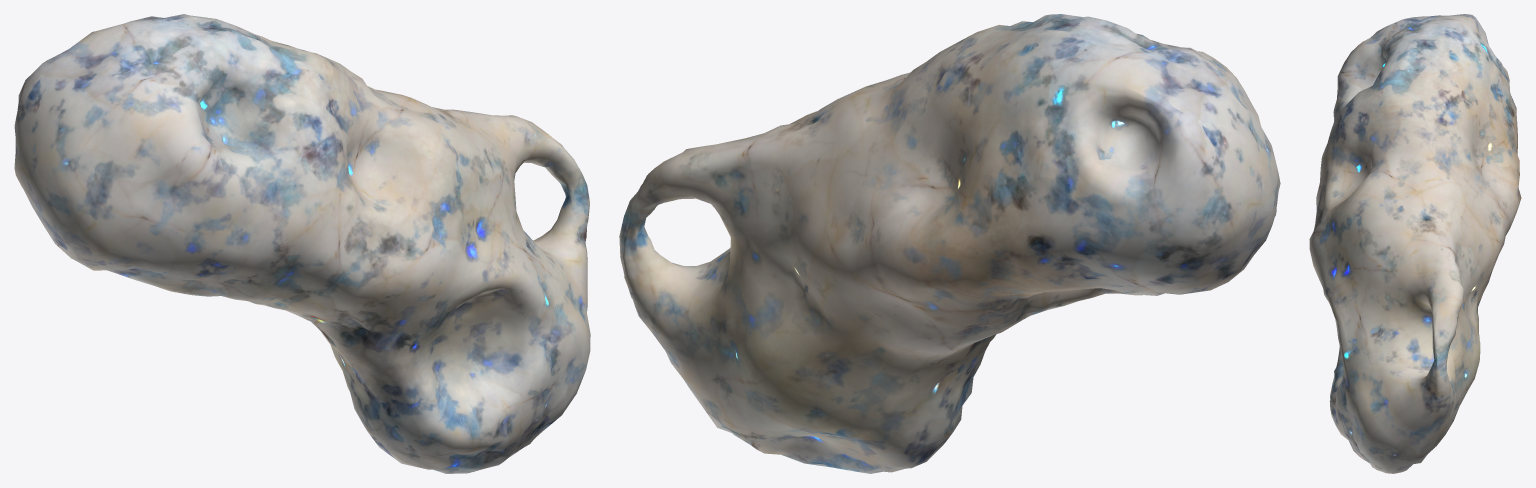
Rendered from asteroid_with_minerals.glb.
The picture shows the model from 3 angles, left to right: view 1: azimuth 30°, elevation 25°; view 2: azimuth 150°, elevation 25°; view 3: azimuth 270°, elevation 25°; orthographic projection. The views are drawn at different scales.
Parts seen in each view (by area): view 1: Object_2; view 2: Object_2; view 3: Object_2.
Boxes of the visible parts, box(x1,y1,x2,y2) form: Object_2: box(14, 14, 590, 473); Object_2: box(619, 14, 1280, 473); Object_2: box(1309, 14, 1521, 473).
Size of the model in its own units: 2.48 by 2 by 1.13.
Materials: 1 (1 with a texture image).
